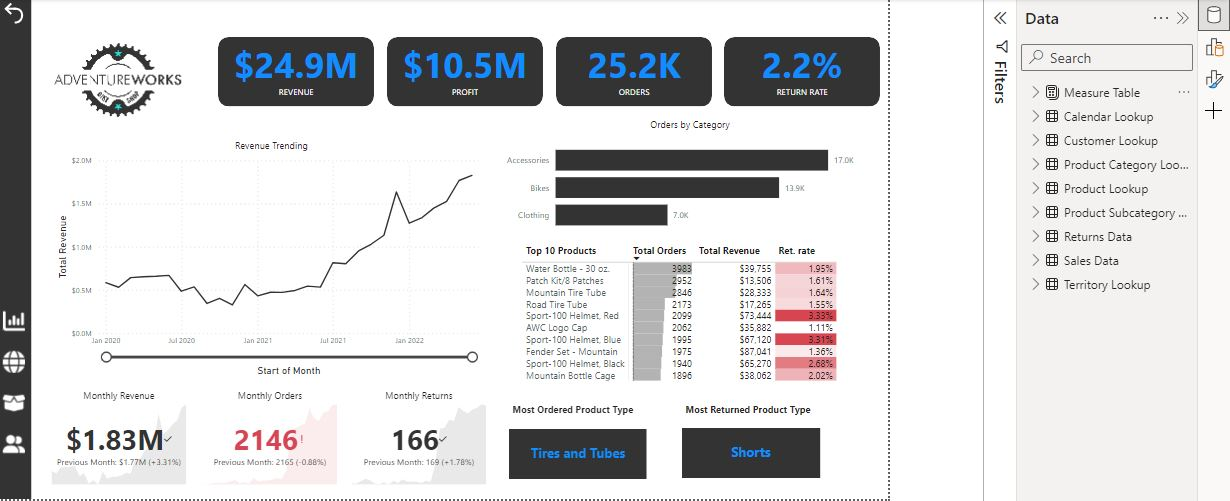

The dashboard page shown, as its layout file describes it:
{"tool":"powerbi","page":{"name":"Executive Dashboard","canvas":[1280,720],"ordinal":0},"visuals":[{"type":"card","fields":{"Values":["Measure Table.Total Revenue"]},"box":[309.2,0,233.8,201.5],"z":0,"group":"g3"},{"type":"image","title":"AW Logo","box":[53.8,15.4,233.8,201.5],"z":0},{"type":"shape","box":[313.8,55.4,224.6,100],"z":0,"group":"g2"},{"type":"shape","title":"Navigation Bar","box":[0,0,45,720],"z":1000},{"type":"card","fields":{"Values":["Measure Table.Total Profit"]},"box":[552.3,0,233.8,201.5],"z":1000,"group":"g3"},{"type":"shape","box":[556.9,55.4,224.6,100],"z":1000,"group":"g2"},{"type":"group","id":"g1","title":"KPIs","box":[309.2,0,963.1,201.5],"z":2000},{"type":"card","fields":{"Values":["Measure Table.Total Orders"]},"box":[795.4,0,233.8,201.5],"z":2000,"group":"g3"},{"type":"group","id":"g2","title":"KPI Backgrounds","box":[313.8,55.4,953.8,100],"z":2000,"group":"g1"},{"type":"shape","box":[800,55.4,224.6,100],"z":2000,"group":"g2"},{"type":"group","id":"g3","title":"KPI Values","box":[309.2,0,963.1,201.5],"z":3000,"group":"g1"},{"type":"card","fields":{"Values":["Measure Table.Ret. rate"]},"box":[1038.4,0,233.8,201.5],"z":3000,"group":"g3"},{"type":"shape","box":[1043,55.4,224.6,100],"z":3000,"group":"g2"},{"type":"lineChart","title":"Revenue Trending","fields":{"Y":["Measure Table.Total Revenue"],"Category":["Calendar Lookup.Year","Calendar Lookup.Start of Quarter","Calendar Lookup.Start of Month"]},"box":[76.3,201.6,629.3,345.6],"z":3000},{"type":"kpi","title":"Monthly Revenue","fields":{"Indicator":["Measure Table.Total Revenue"],"TrendLine":["Calendar Lookup.Start of Month"],"Goal":["Measure Table.Previous Month Revenue"]},"box":[69.1,561.6,204.5,142.6],"z":4000},{"type":"kpi","title":"Monthly Orders","fields":{"TrendLine":["Calendar Lookup.Start of Month"],"Indicator":["Measure Table.Total Orders"],"Goal":["Measure Table.Previous Month Orders"]},"box":[286.6,561.6,204.5,142.6],"z":5000},{"type":"kpi","title":"Monthly Returns","fields":{"TrendLine":["Calendar Lookup.Start of Month"],"Indicator":["Measure Table.Total Returns"],"Goal":["Measure Table.Previous Month Returns"]},"box":[501.1,561.6,204.5,142.6],"z":6000},{"type":"barChart","title":"Orders by Category","fields":{"Category":["Product Category Lookup.CategoryName"],"Y":["Measure Table.Total Orders"]},"box":[720,171.4,547.2,177.1],"z":7000},{"type":"pivotTable","fields":{"Rows":["Product Lookup.ProductName"],"Values":["Measure Table.Total Orders","Measure Table.Total Revenue","Measure Table.Ret. rate"]},"box":[747.4,348.5,469.4,213.1],"z":8000},{"type":"card","fields":{"Values":["Min(Product Subcategory Lookup.SubcategoryName)"]},"box":[733,618.5,198.4,71.5],"z":9000},{"type":"textbox","box":[733,577.4,198.4,41.1],"z":10000},{"type":"card","fields":{"Values":["Min(Product Subcategory Lookup.SubcategoryName)"]},"box":[982.1,617.8,198.7,72],"z":11000},{"type":"textbox","box":[981.5,577.7,198.4,40.4],"z":12000},{"type":"actionButton","box":[0,0,44.6,40.3],"z":12001},{"type":"actionButton","box":[0,443.5,44.6,40.3],"z":12002},{"type":"actionButton","box":[0,502.6,44.6,40.3],"z":12003},{"type":"actionButton","box":[0,561.6,44.6,40.3],"z":12004},{"type":"actionButton","box":[0,620.6,44.6,40.3],"z":12005}]}

Visuals, with their boxes on the page's 1280x720 design canvas (x1, y1, x2, y2). These are canvas units, not pixel positions in the 1230x501 screenshot, which may show the page scaled, cropped or inside an application window:
card - Measure Table.Total Revenue: [left=309, top=0, right=543, bottom=202]
"AW Logo" image: [left=54, top=15, right=288, bottom=217]
shape: [left=314, top=55, right=538, bottom=155]
"Navigation Bar" shape: [left=0, top=0, right=45, bottom=720]
card - Measure Table.Total Profit: [left=552, top=0, right=786, bottom=202]
shape: [left=557, top=55, right=782, bottom=155]
"KPIs" group: [left=309, top=0, right=1272, bottom=202]
card - Measure Table.Total Orders: [left=795, top=0, right=1029, bottom=202]
"KPI Backgrounds" group: [left=314, top=55, right=1268, bottom=155]
shape: [left=800, top=55, right=1025, bottom=155]
"KPI Values" group: [left=309, top=0, right=1272, bottom=202]
card - Measure Table.Ret. rate: [left=1038, top=0, right=1272, bottom=202]
shape: [left=1043, top=55, right=1268, bottom=155]
"Revenue Trending" lineChart: [left=76, top=202, right=706, bottom=547]
"Monthly Revenue" kpi: [left=69, top=562, right=274, bottom=704]
"Monthly Orders" kpi: [left=287, top=562, right=491, bottom=704]
"Monthly Returns" kpi: [left=501, top=562, right=706, bottom=704]
"Orders by Category" barChart: [left=720, top=171, right=1267, bottom=348]
pivotTable - Product Lookup.ProductName x Measure Table.Total Orders: [left=747, top=348, right=1217, bottom=562]
card - Min(Product Subcategory Lookup.SubcategoryName): [left=733, top=618, right=931, bottom=690]
textbox: [left=733, top=577, right=931, bottom=618]
card - Min(Product Subcategory Lookup.SubcategoryName): [left=982, top=618, right=1181, bottom=690]
textbox: [left=982, top=578, right=1180, bottom=618]
actionButton: [left=0, top=0, right=45, bottom=40]
actionButton: [left=0, top=444, right=45, bottom=484]
actionButton: [left=0, top=503, right=45, bottom=543]
actionButton: [left=0, top=562, right=45, bottom=602]
actionButton: [left=0, top=621, right=45, bottom=661]
